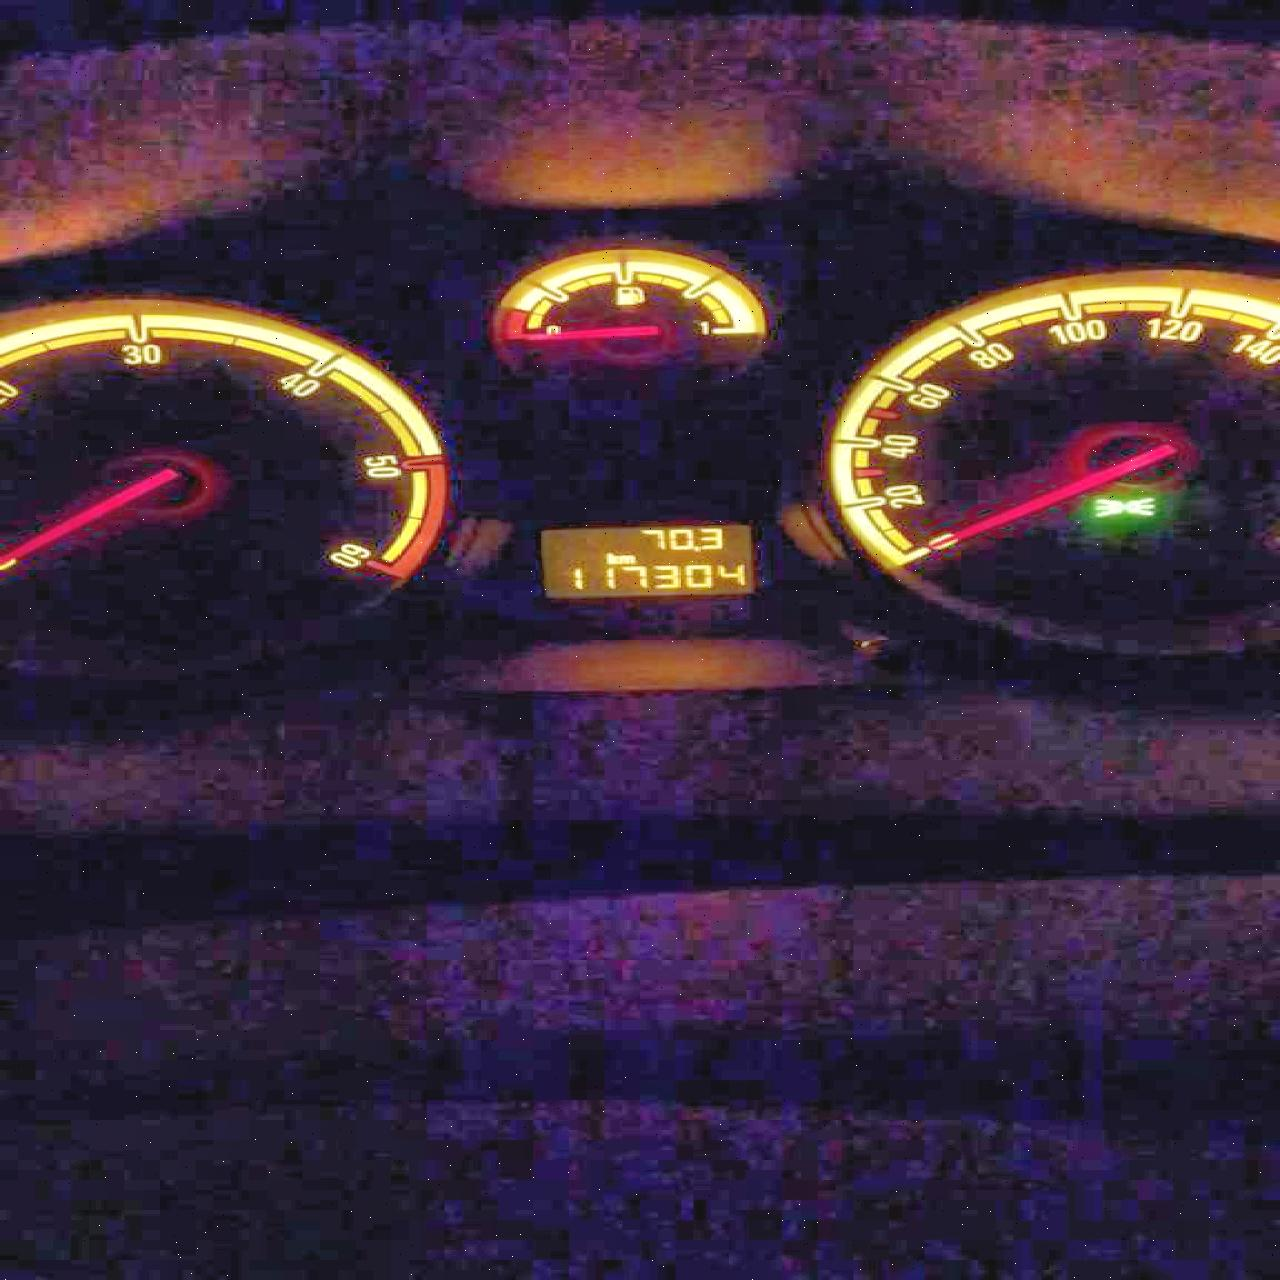0: (682, 563, 712, 587), (667, 527, 692, 550)
1: (571, 566, 583, 588), (602, 566, 613, 588)
3: (651, 564, 680, 587), (697, 527, 722, 549)
4: (715, 563, 744, 585)
7: (618, 565, 647, 587), (638, 527, 665, 550)
X: (602, 551, 618, 564), (618, 554, 635, 564), (692, 545, 700, 551)
odometer: (536, 523, 756, 599)
